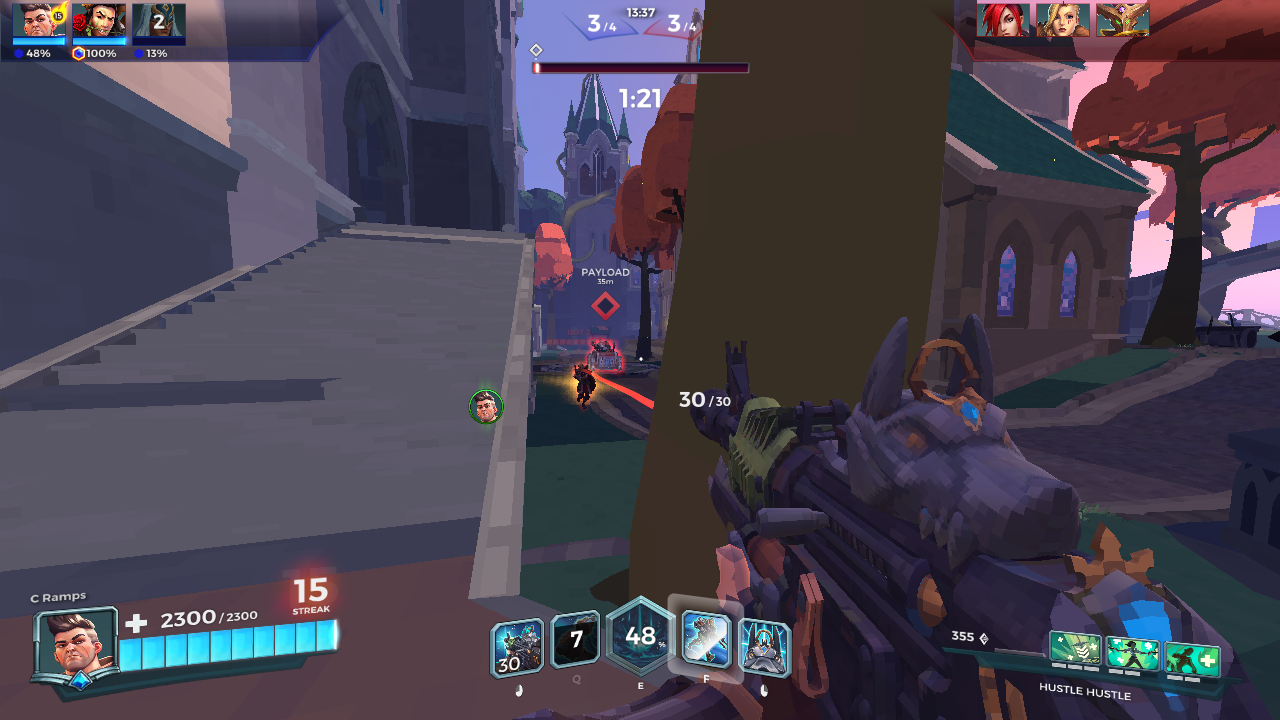model: (572, 360, 590, 403)
